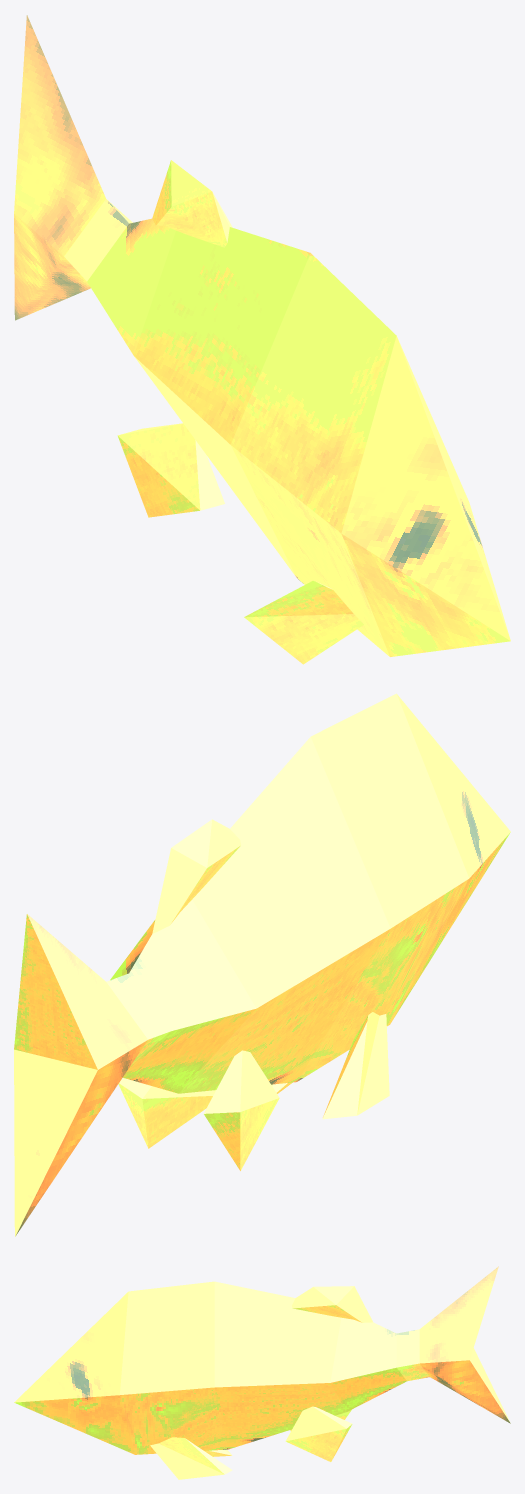
File: smallFish_2.glb
3 renders of one model, top to bottom at view 1: azimuth 30°, elevation 25°; view 2: azimuth 150°, elevation 25°; view 3: azimuth 270°, elevation 25°, orthographic. The views are drawn at different scales.
Visible parts, largest first — view 1: smallFish_2; view 2: smallFish_2; view 3: smallFish_2.
Boxes of the visible parts, <box> form: smallFish_2: <box>14,15,510,664</box>; smallFish_2: <box>14,693,510,1236</box>; smallFish_2: <box>14,1266,510,1479</box>.
Size of the model in its own units: 0.4 by 0.9689 by 2.15.
